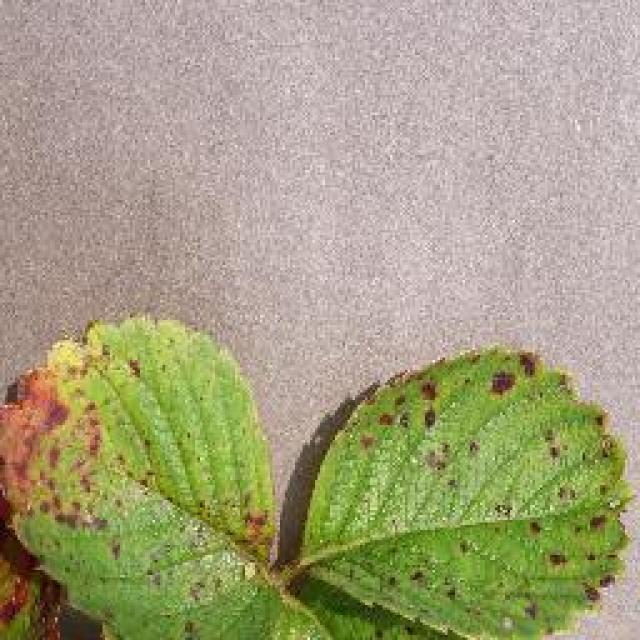Strawberry leaf scorch: (19, 385, 588, 593)
